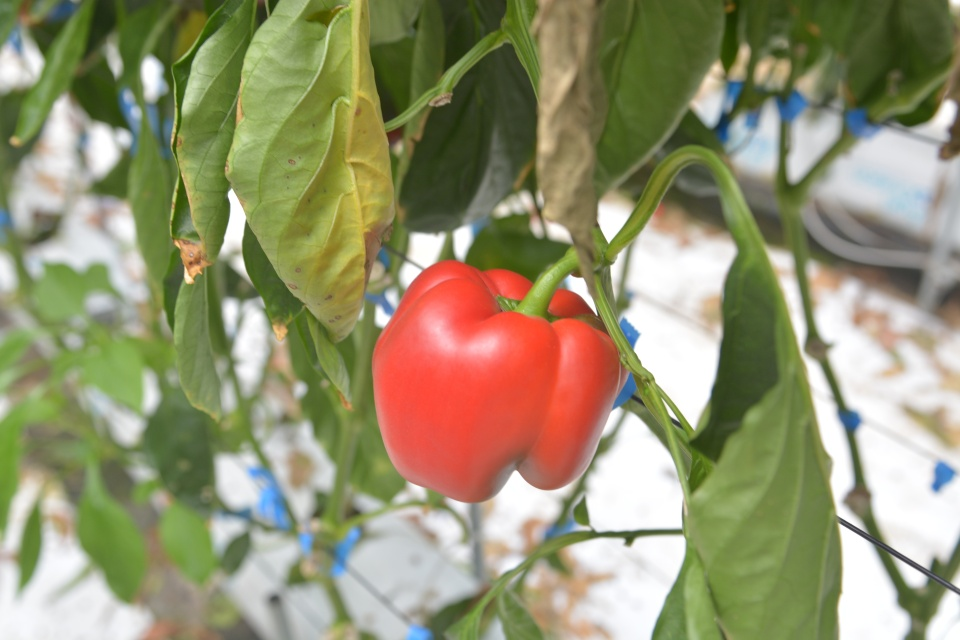fruit: (367, 253, 626, 508)
pedicle: (499, 293, 566, 320)
